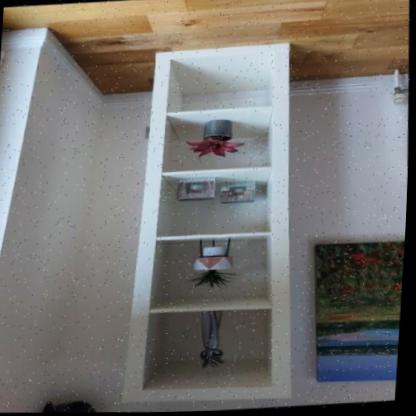Shelf: (95, 32, 319, 414)
